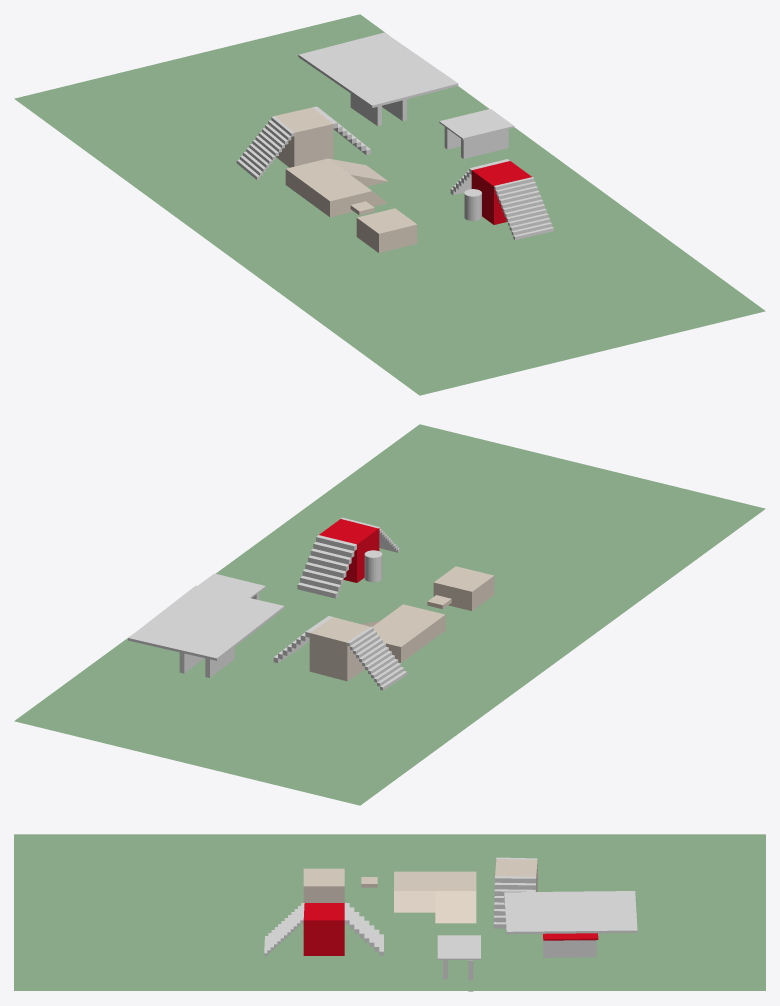
Rendered from character_controller_demo2.glb.
3 renders of one model, top to bottom at view 1: azimuth 30°, elevation 25°; view 2: azimuth 150°, elevation 25°; view 3: azimuth 270°, elevation 25°, orthographic. The views are drawn at different scales.
Visible parts, largest first — view 1: Ground, Cube.026, Platform, Platform.004, Platform.001, Platform.003, Cube.022, Cube.021, Ramp.001; view 2: Ground, Cube.026, Platform.004, Platform, Platform.001, Platform.003, Cube.022; view 3: Ground, Cube.026, Platform.003, Platform, Platform.001, Ramp.001, Cube.022, Cube.025, Ramp, Platform.004, Cube.023, Cube.041 (+1 smaller).
Part boxes in pixels (x1,y1,x2,y2): Ground: [14, 14, 765, 395]; Cube.026: [298, 32, 458, 107]; Platform: [285, 158, 372, 217]; Platform.004: [274, 107, 333, 167]; Platform.001: [356, 208, 417, 252]; Platform.003: [471, 161, 531, 224]; Cube.022: [439, 108, 514, 139]; Cube.021: [461, 129, 508, 158]; Ramp.001: [328, 158, 388, 186]; Ground: [14, 424, 765, 805]; Cube.026: [128, 585, 284, 660]; Platform.004: [309, 617, 370, 681]; Platform: [372, 604, 445, 662]; Platform.001: [433, 566, 494, 610]; Platform.003: [319, 519, 379, 582]; Cube.022: [198, 573, 265, 597]; Ground: [14, 834, 765, 990]; Cube.026: [504, 891, 637, 934]; Platform.003: [303, 903, 344, 955]; Platform: [394, 871, 476, 890]; Platform.001: [303, 868, 344, 902]; Ramp.001: [435, 891, 476, 923]; Cube.022: [437, 935, 480, 959]; Cube.025: [543, 940, 596, 957]; Ramp: [394, 891, 435, 912]; Platform.004: [495, 859, 537, 891]; Cube.023: [543, 933, 598, 940]; Cube.041: [495, 876, 536, 883].
Bounding box in the file's own units: 45 × 6.88 × 91.35.
